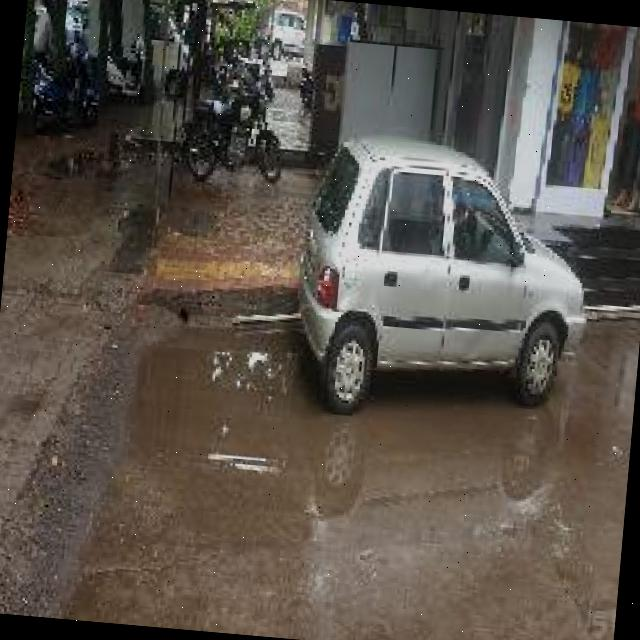stagnation: (76, 310, 532, 560)
